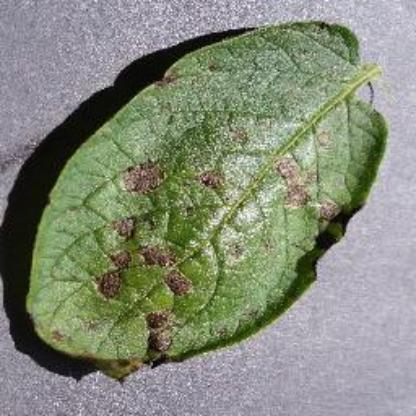Early-Blight: (19, 8, 404, 386)
